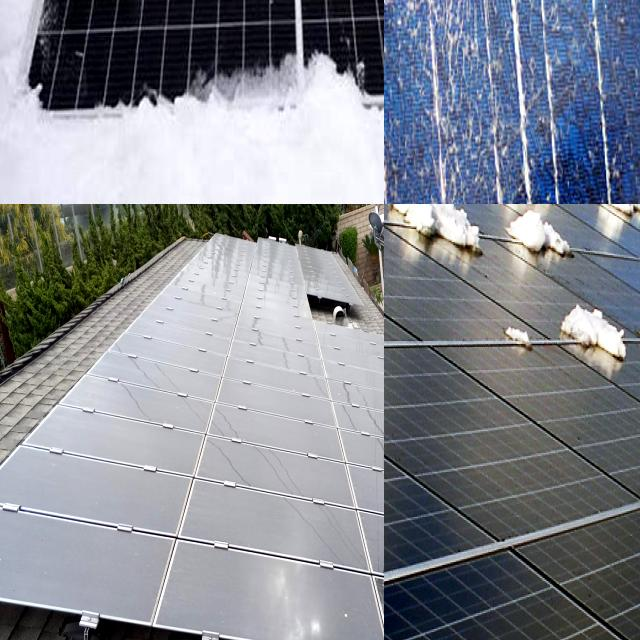dust: (261, 545, 362, 640), (0, 513, 20, 589)
hotspot: (384, 0, 528, 84), (410, 0, 523, 49)
panel: (158, 51, 264, 148), (23, 0, 77, 159), (22, 82, 156, 137), (270, 48, 360, 120), (558, 283, 627, 373), (389, 204, 484, 268), (497, 213, 588, 268), (472, 204, 578, 243), (177, 0, 284, 25), (493, 306, 542, 356), (384, 204, 428, 257), (292, 0, 384, 25), (576, 204, 640, 239), (384, 204, 433, 249), (384, 204, 442, 239), (92, 0, 164, 14)
